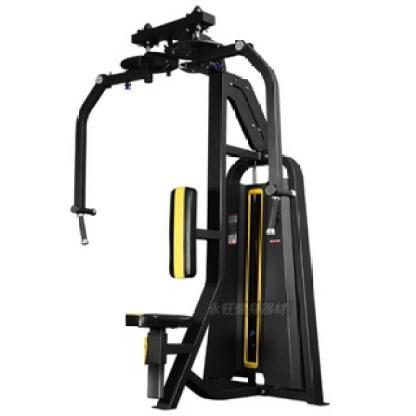chest fly machine: (58, 5, 337, 416)
